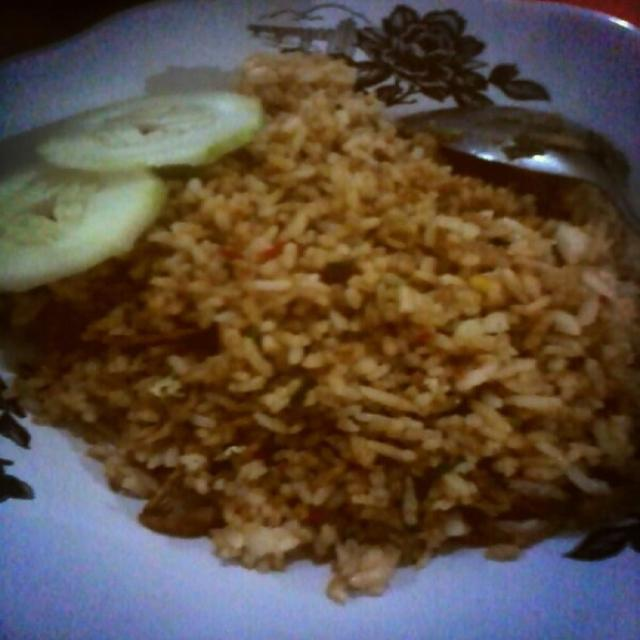米饭主食: (34, 34, 605, 592)
